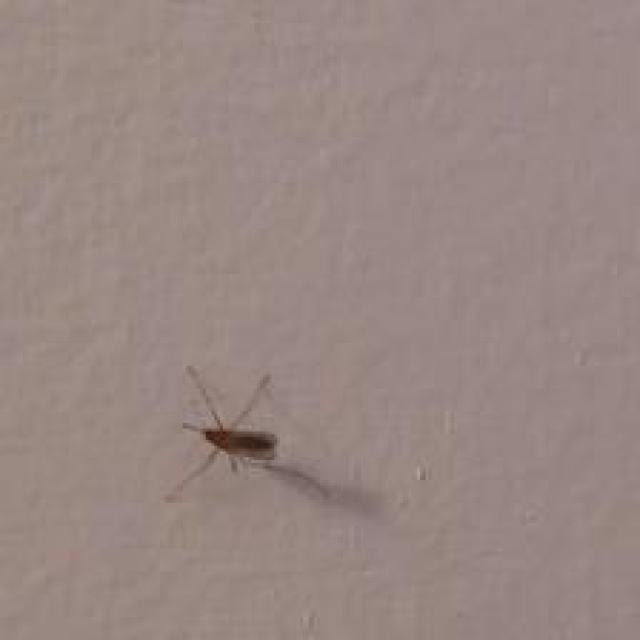Culex: (163, 363, 331, 506)
